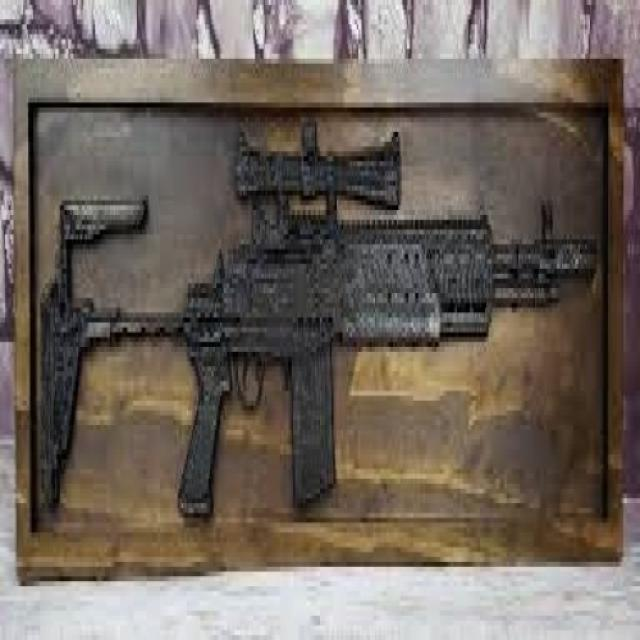Gun: (30, 105, 598, 492)
